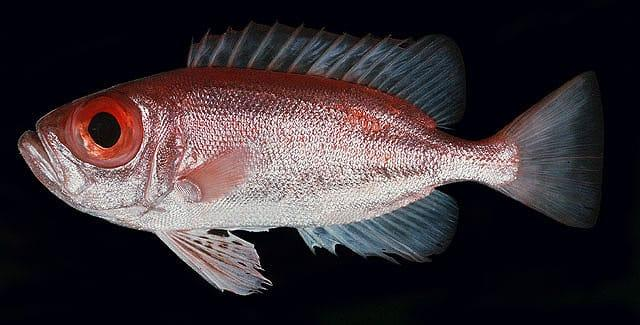Mulut: (10, 105, 66, 183)
Sirip Anal: (304, 187, 458, 260)
Sirip Dada: (176, 141, 252, 203)
Sirip Ekor: (502, 64, 612, 236)
Sirip Perut: (159, 222, 275, 296)
Sirip Punggung: (188, 22, 470, 132)
